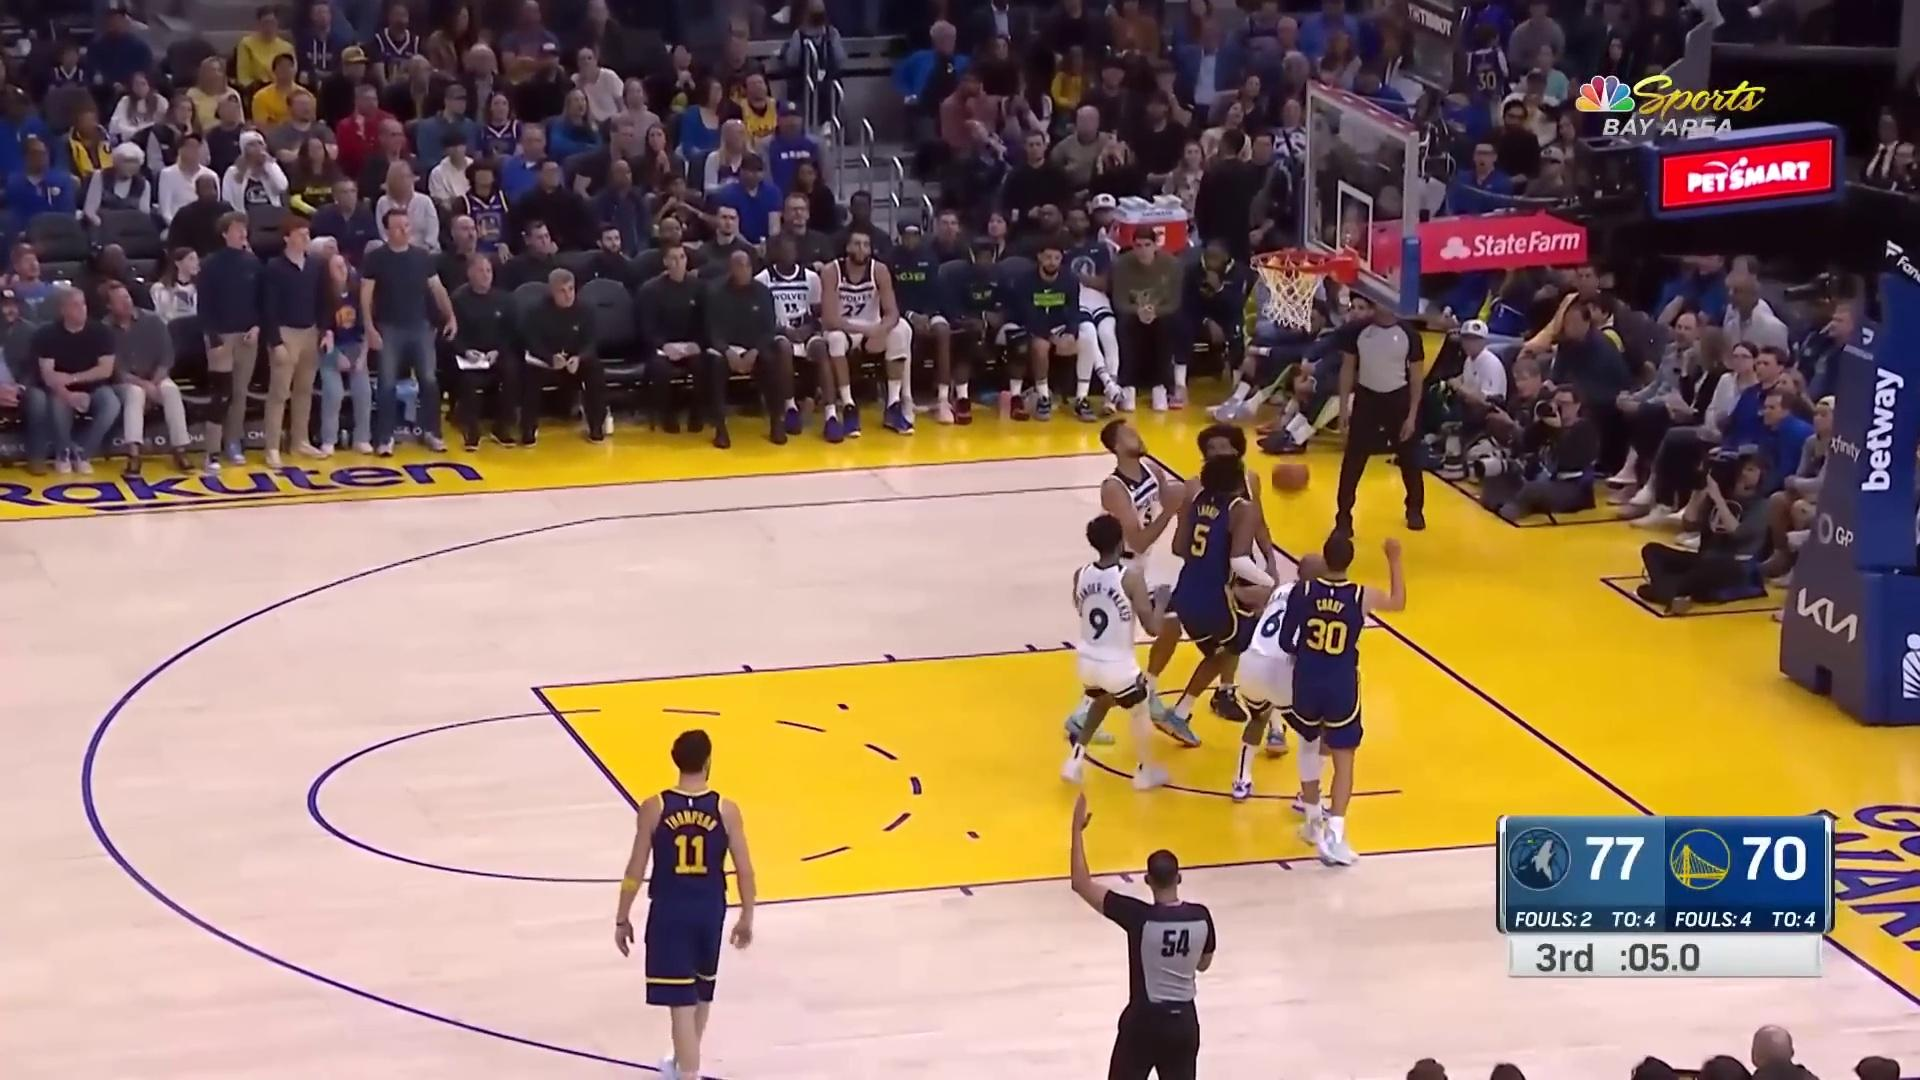Ball: (1269, 448, 1316, 504)
Player: (608, 723, 776, 1080), (1279, 528, 1411, 873), (1169, 448, 1283, 769), (1059, 514, 1179, 798), (1169, 421, 1283, 661), (1228, 543, 1326, 819), (1088, 406, 1189, 668)
Rim: (1248, 66, 1426, 346)
